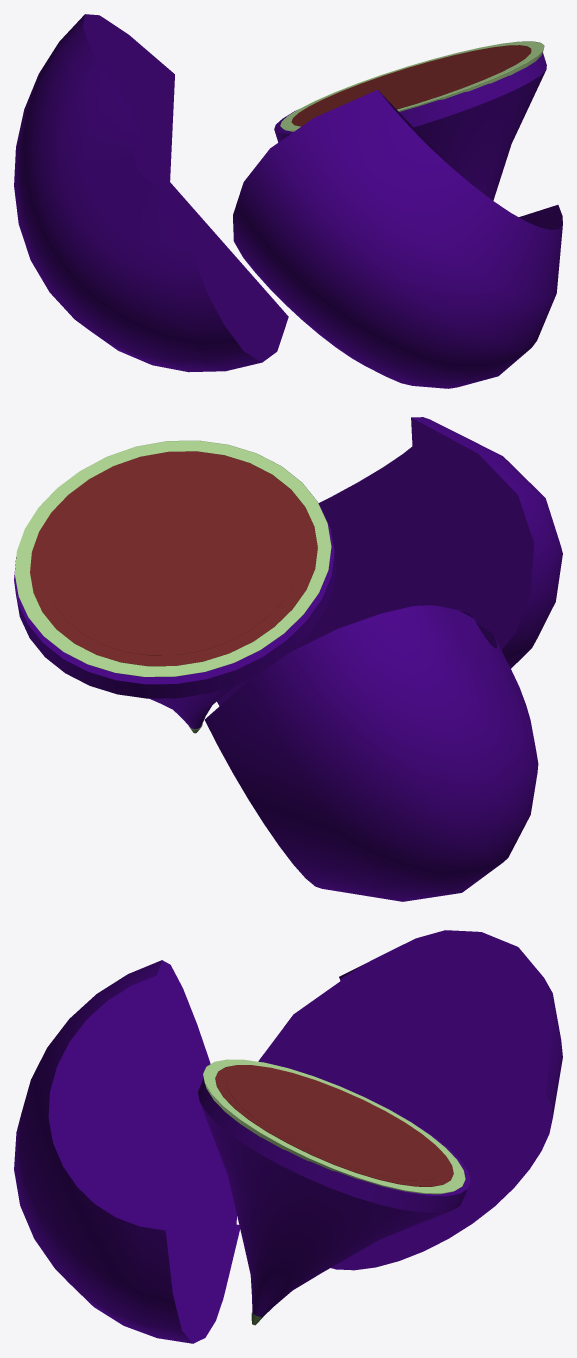
Rendered from higo_partido.fbx.
The picture shows the model from 3 angles, top to bottom: view 1: azimuth 30°, elevation 25°; view 2: azimuth 150°, elevation 25°; view 3: azimuth 270°, elevation 25°; orthographic projection. The views are drawn at different scales.
Parts seen in each view (by area): view 1: Sphere.003, Sphere.002, Sphere, Sphere.001, Sphere.004; view 2: Sphere.002, Sphere.001, Sphere.003, Sphere.004, Sphere; view 3: Sphere.003, Sphere.002, Sphere, Sphere.001, Sphere.004.
Part boxes in pixels (x1,y1,x2,y2): Sphere.003: [233, 90, 562, 388]; Sphere.002: [14, 14, 288, 372]; Sphere: [274, 52, 546, 200]; Sphere.001: [291, 45, 531, 126]; Sphere.004: [280, 41, 544, 131]; Sphere.002: [204, 605, 538, 901]; Sphere.001: [30, 451, 317, 666]; Sphere.003: [217, 417, 562, 705]; Sphere.004: [14, 440, 331, 676]; Sphere: [14, 506, 336, 729]; Sphere.003: [14, 960, 239, 1343]; Sphere.002: [258, 930, 562, 1270]; Sphere: [198, 1078, 470, 1317]; Sphere.001: [215, 1065, 453, 1186]; Sphere.004: [203, 1059, 465, 1194].
Size of the model in its own units: 390 by 258 by 404.
